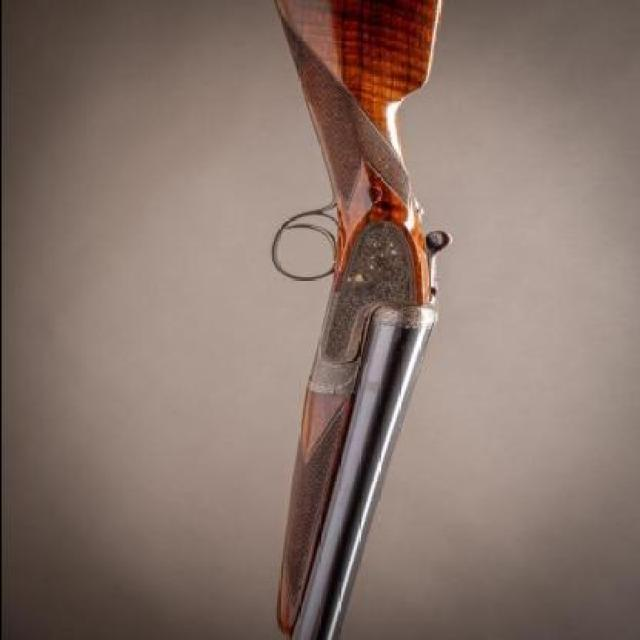weapon: (259, 0, 452, 638)
